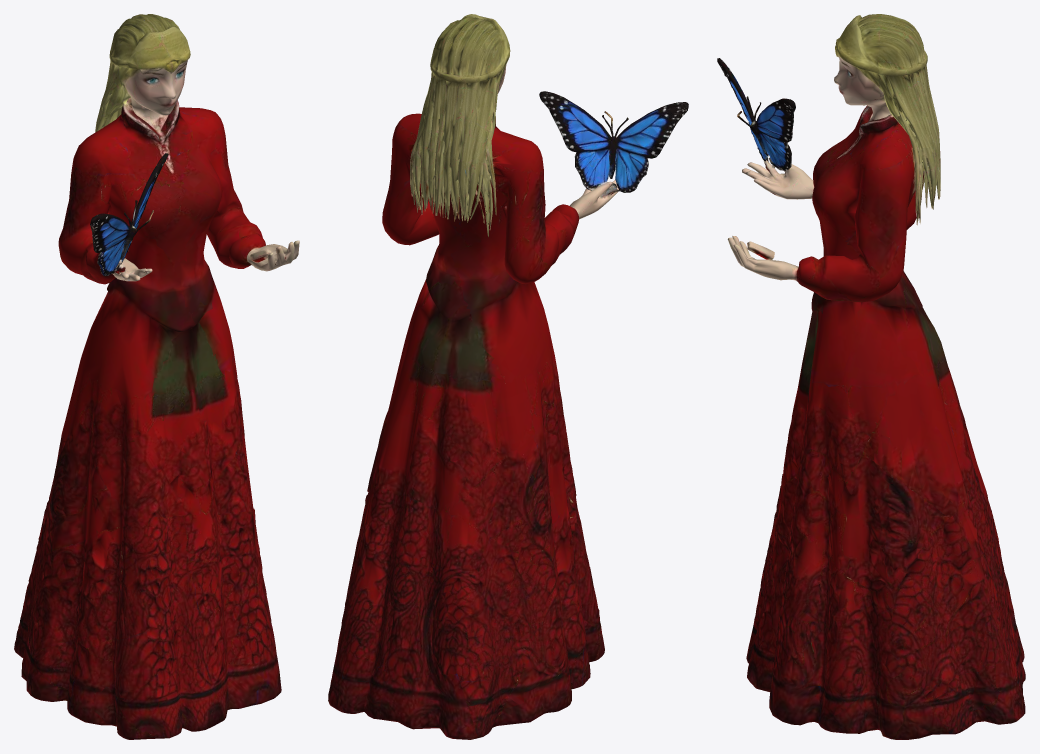
The model's file is lady_isolde.glb.
3 renders of one model, left to right at view 1: azimuth 30°, elevation 25°; view 2: azimuth 150°, elevation 25°; view 3: azimuth 270°, elevation 25°, orthographic. The views are drawn at different scales.
Bounding box in the file's own units: 0.7694 × 1.9 × 0.7919.
1 material, 1 textured.
